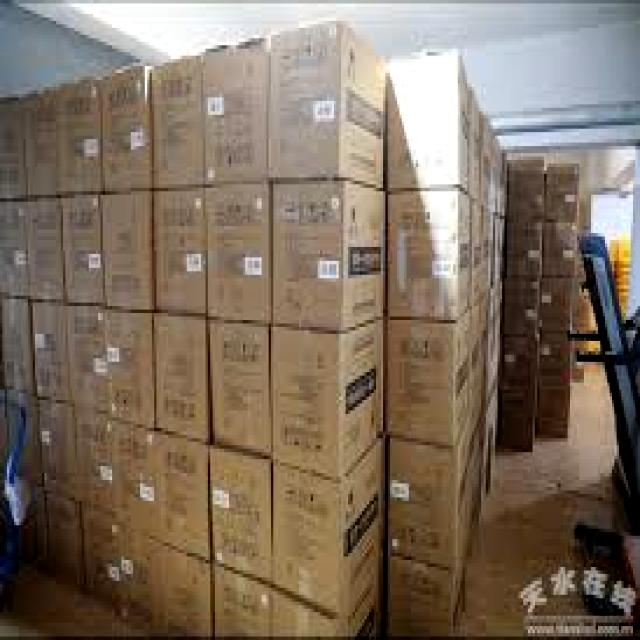Cardboard: (0, 13, 581, 640)
